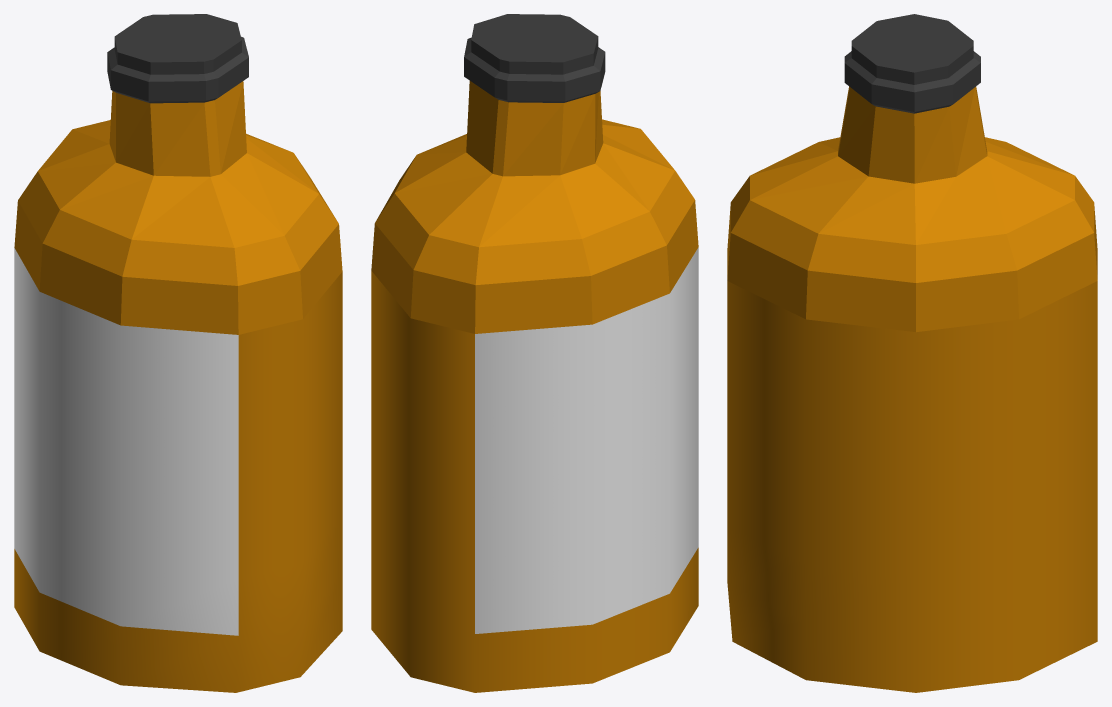
Rendered from Botella3.fbx.
3 views of the same model, side by side, from view 1: azimuth 30°, elevation 25°; view 2: azimuth 150°, elevation 25°; view 3: azimuth 270°, elevation 25° (orthographic).
Parts seen in each view (by area): view 1: Botella03_LOD00; view 2: Botella03_LOD00; view 3: Botella03_LOD00.
Boxes of the visible parts, x1,y1,x2,y2 form: Botella03_LOD00: [14, 14, 342, 692]; Botella03_LOD00: [371, 14, 698, 692]; Botella03_LOD00: [727, 14, 1097, 692].
Size of what is drawn, in the model's own units: 12.38 by 25.07 by 14.44.
